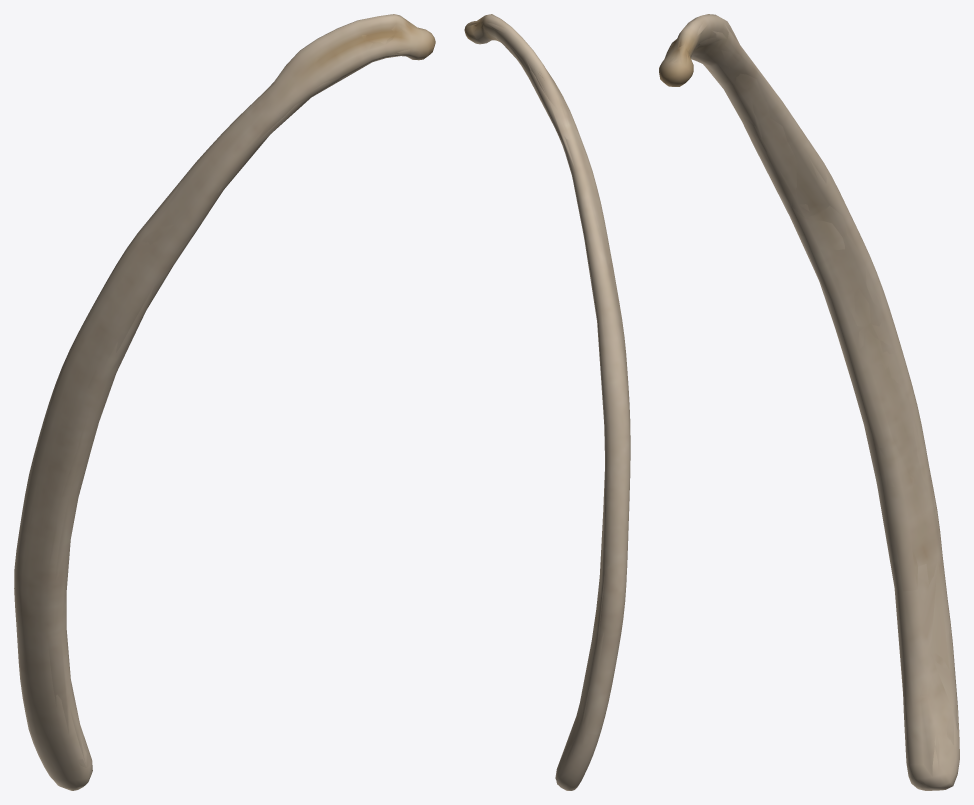
The model's file is Rib R07.fbx.
The picture shows the model from 3 angles, left to right: view 1: azimuth 30°, elevation 25°; view 2: azimuth 150°, elevation 25°; view 3: azimuth 270°, elevation 25°; orthographic projection. The views are drawn at different scales.
Parts seen in each view (by area): view 1: Rib R07, Rib R07 low; view 2: Rib R07, Rib R07 low; view 3: Rib R07 low, Rib R07.
Part boxes in pixels (box(x1,y1,x2,y2)): Rib R07: box(14, 14, 435, 790); Rib R07 low: box(19, 14, 435, 789); Rib R07: box(464, 14, 630, 790); Rib R07 low: box(466, 15, 628, 790); Rib R07 low: box(659, 16, 958, 790); Rib R07: box(659, 14, 959, 790).
Bounding box in the file's own units: 19.17 × 48.41 × 15.08.
Materials: 1 (1 with a texture image).
